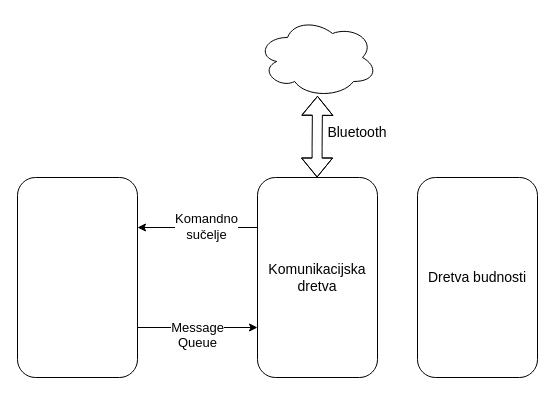
Image size: 555x395. Some labels were removed from this diagram. The centre of each missing label's shape, as x and y in pixels:
"ADCS dretva" goes at point 77,277.
"Korisnik" goes at point 317,57.
